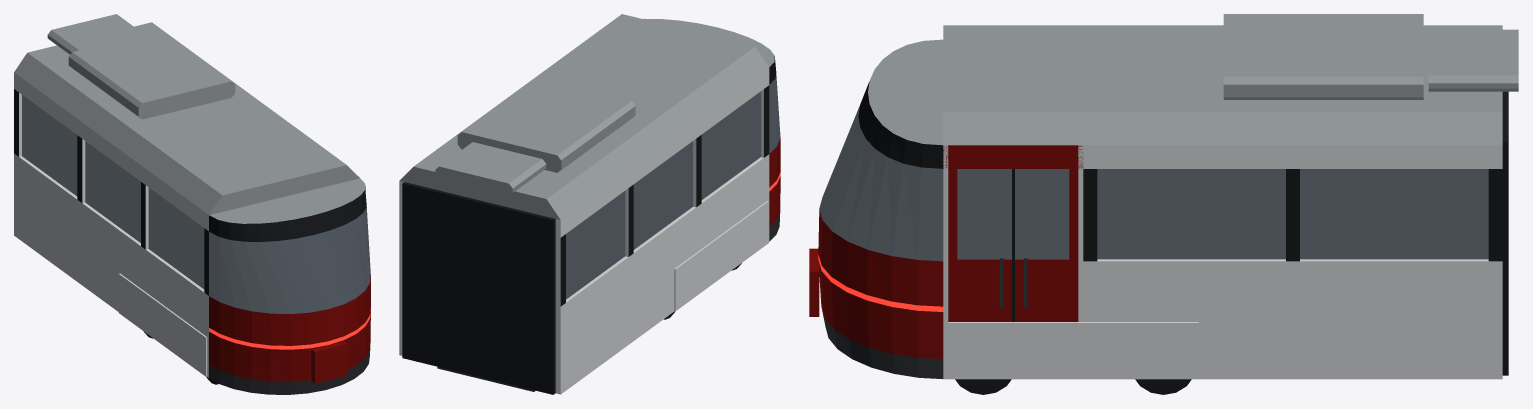
3 renders of one model, left to right at view 1: azimuth 30°, elevation 25°; view 2: azimuth 150°, elevation 25°; view 3: azimuth 270°, elevation 25°, orthographic. The views are drawn at different scales.
Visible parts, largest first — view 1: 52t-e; view 2: 52t-e; view 3: 52t-e.
Part boxes in pixels (left/top/right/bottom): 52t-e: left=14, top=14, right=370, bottom=394; 52t-e: left=399, top=14, right=780, bottom=394; 52t-e: left=809, top=14, right=1518, bottom=394.
Bounding box in the file's own units: 2.55 × 3.4 × 7.09.
